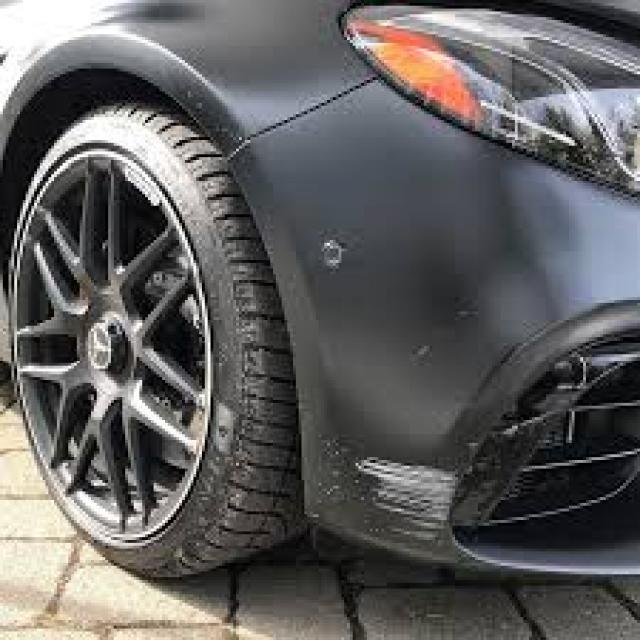scratch: (321, 419, 481, 560), (307, 226, 368, 285)
